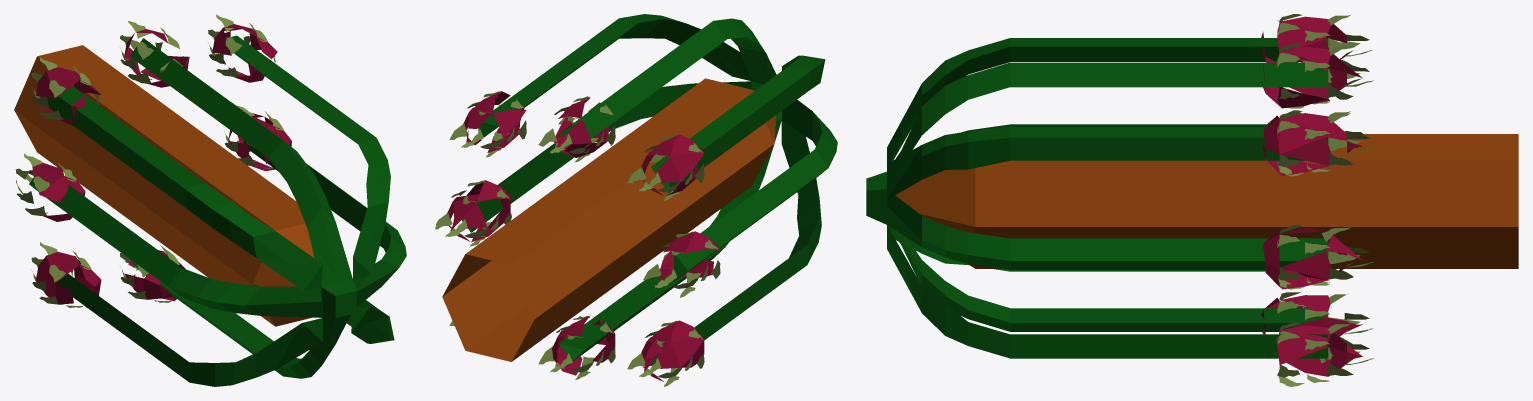
Rendered from 4_mature_partial.obj.
The picture shows the model from 3 angles, left to right: view 1: azimuth 30°, elevation 25°; view 2: azimuth 150°, elevation 25°; view 3: azimuth 270°, elevation 25°; orthographic projection. The views are drawn at different scales.
Visible parts, largest first — view 1: dragonfruit_4_partial; view 2: dragonfruit_4_partial; view 3: dragonfruit_4_partial.
Boxes of the visible parts, left/top/right/bottom form: dragonfruit_4_partial: left=14, top=14, right=406, bottom=386; dragonfruit_4_partial: left=435, top=14, right=837, bottom=386; dragonfruit_4_partial: left=866, top=14, right=1518, bottom=386.
Bounding box in the file's own units: 1.49 × 1.45 × 2.81.
